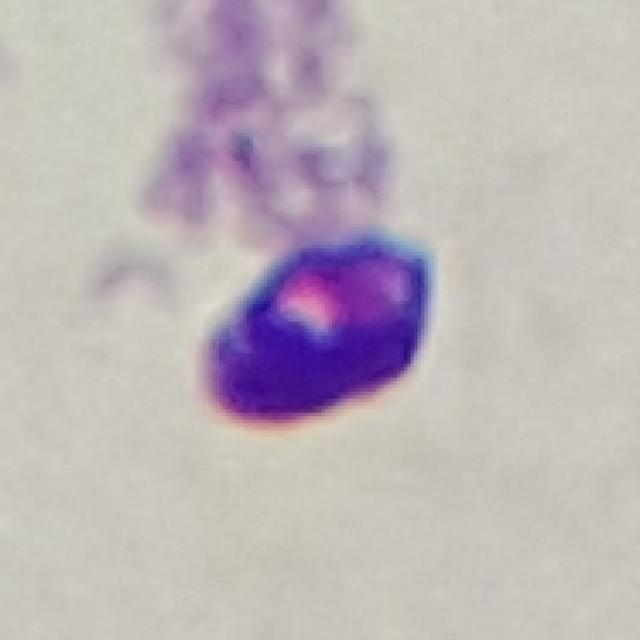non-sperm: (177, 223, 460, 427)
